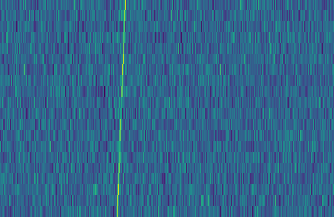signal: (112, 0, 128, 217)
